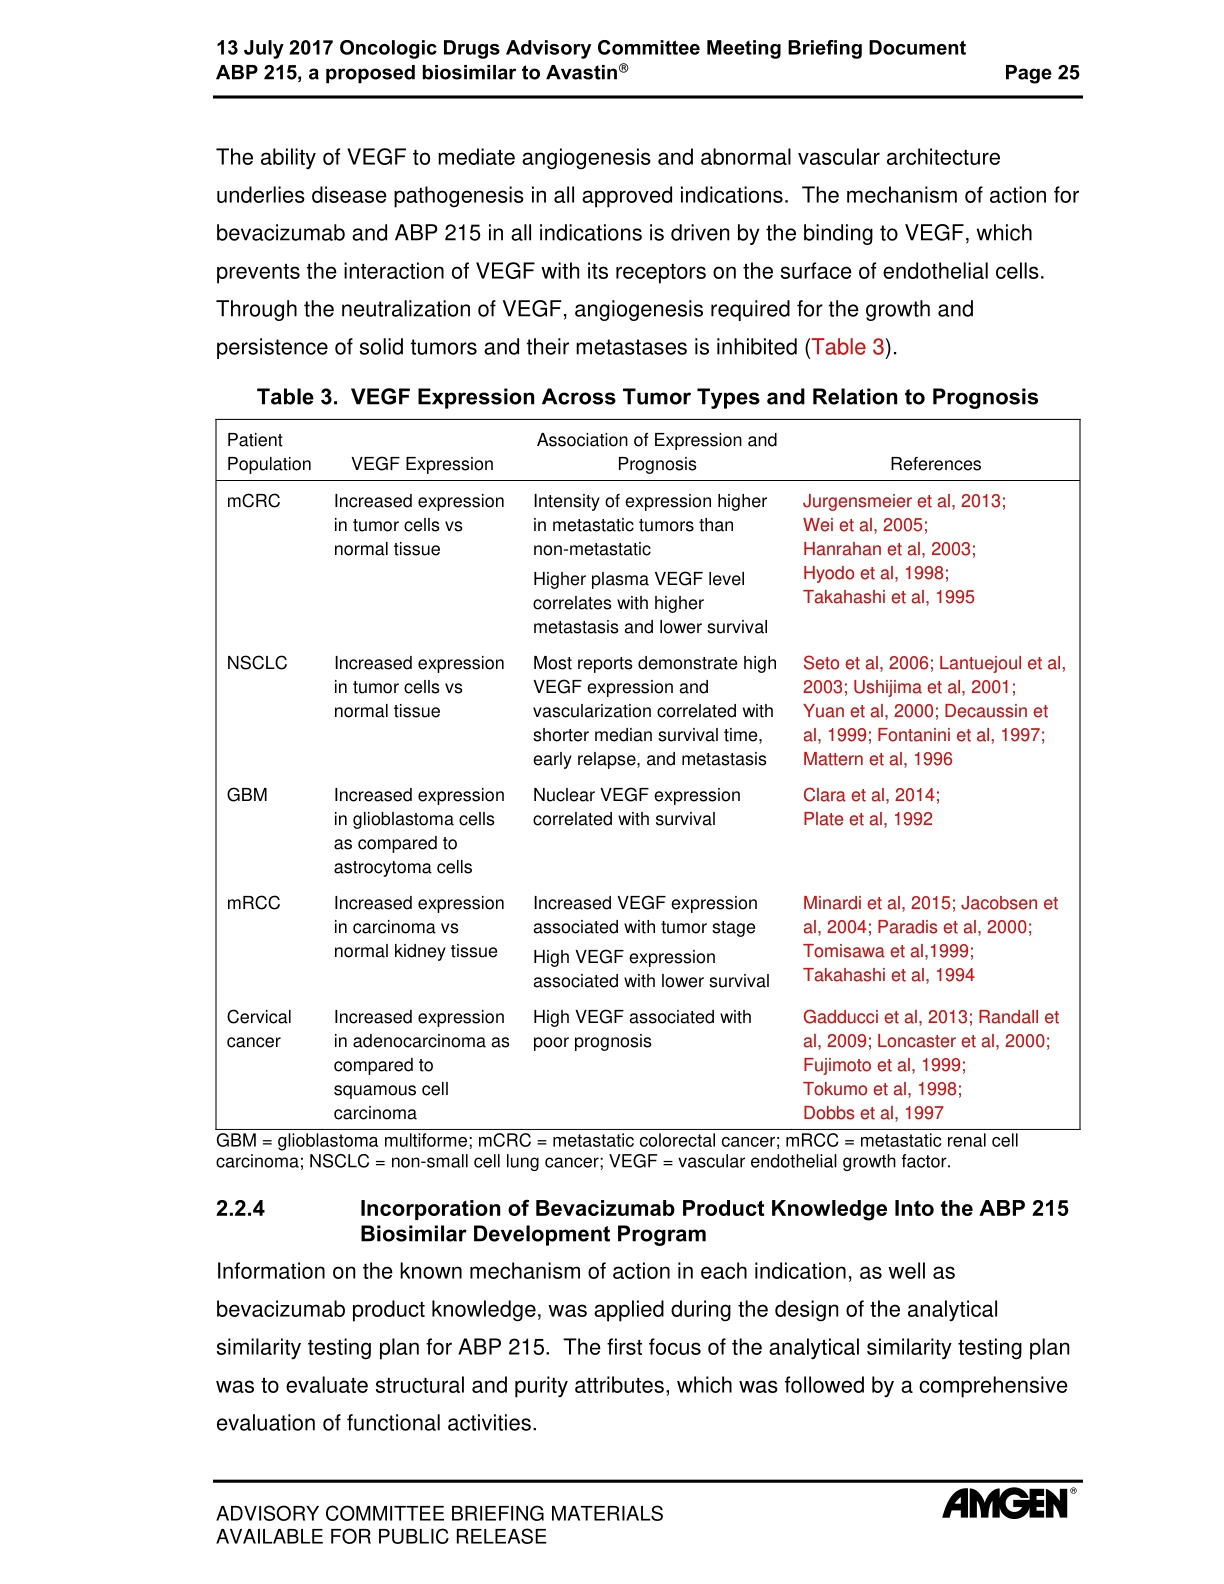partial_lined: (213, 418, 1081, 1131)
